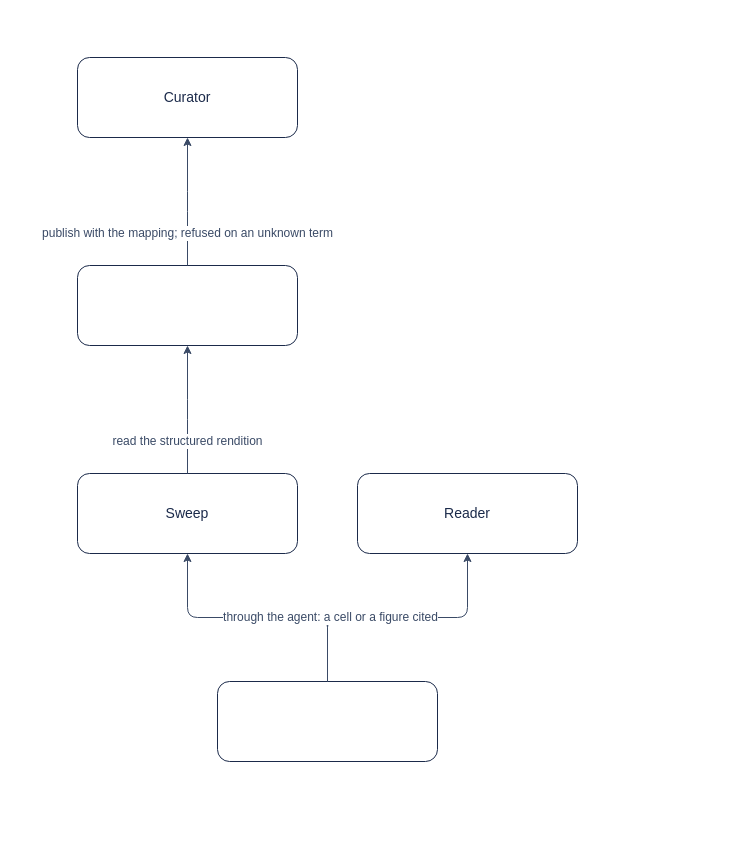
Image size: 754x858. Some labels were removed from this diagram. The centre of each missing label's shape, as x and y in pixels:
Ontology store: [187,305]
Structured tools: [327,721]
